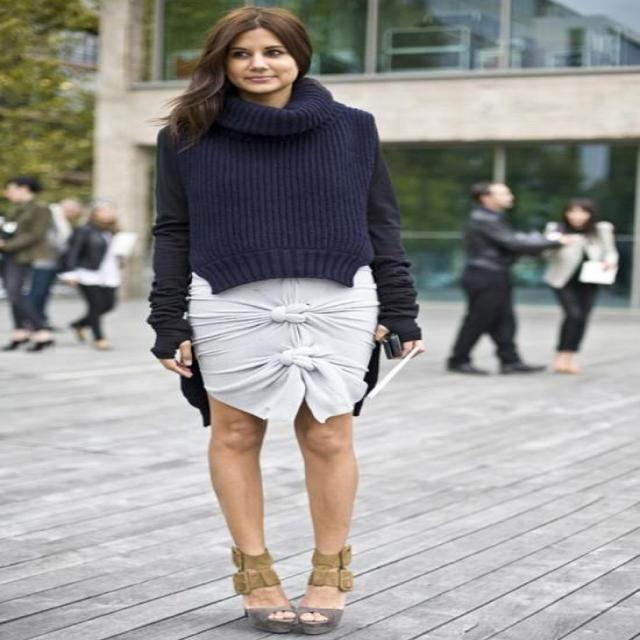skirt: (182, 260, 380, 420)
sweater: (148, 76, 423, 360)
